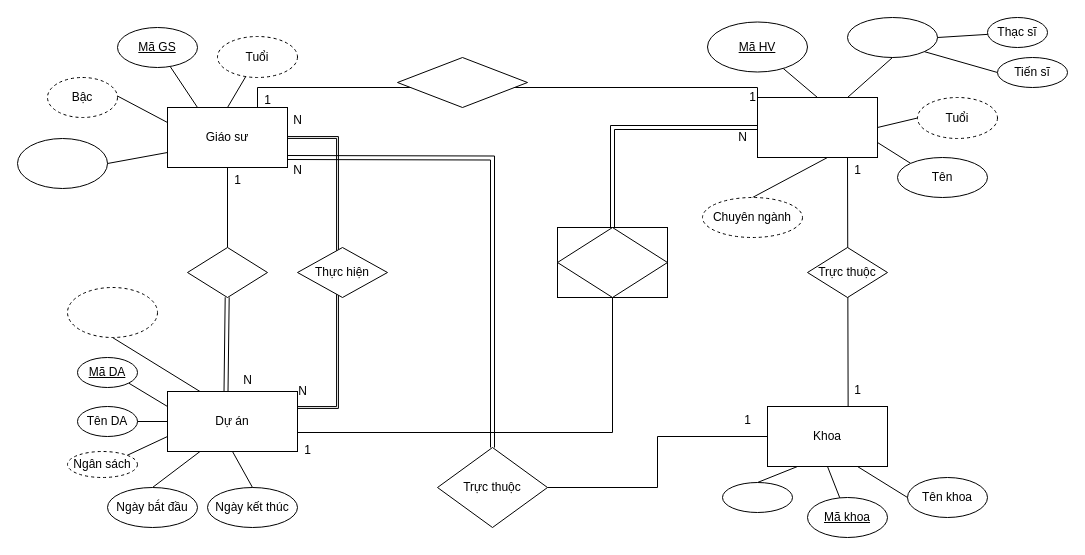
The diagram is 1085 pixels wide and 555 high, and some of its shapes have lost their labels. Each missing label, with the centre of its shape:
"Bậc học" goes at point 892,37.
"Chuyên môn" goes at point 62,163.
"Học viên" goes at point 817,127.
"Hỗ trợ" goes at point 462,82.
"Làm việc" goes at point 612,262.
"Mã GSHD" goes at point 112,312.
"Quản lí" goes at point 227,272.
"Trụ sở" goes at point 757,497.
